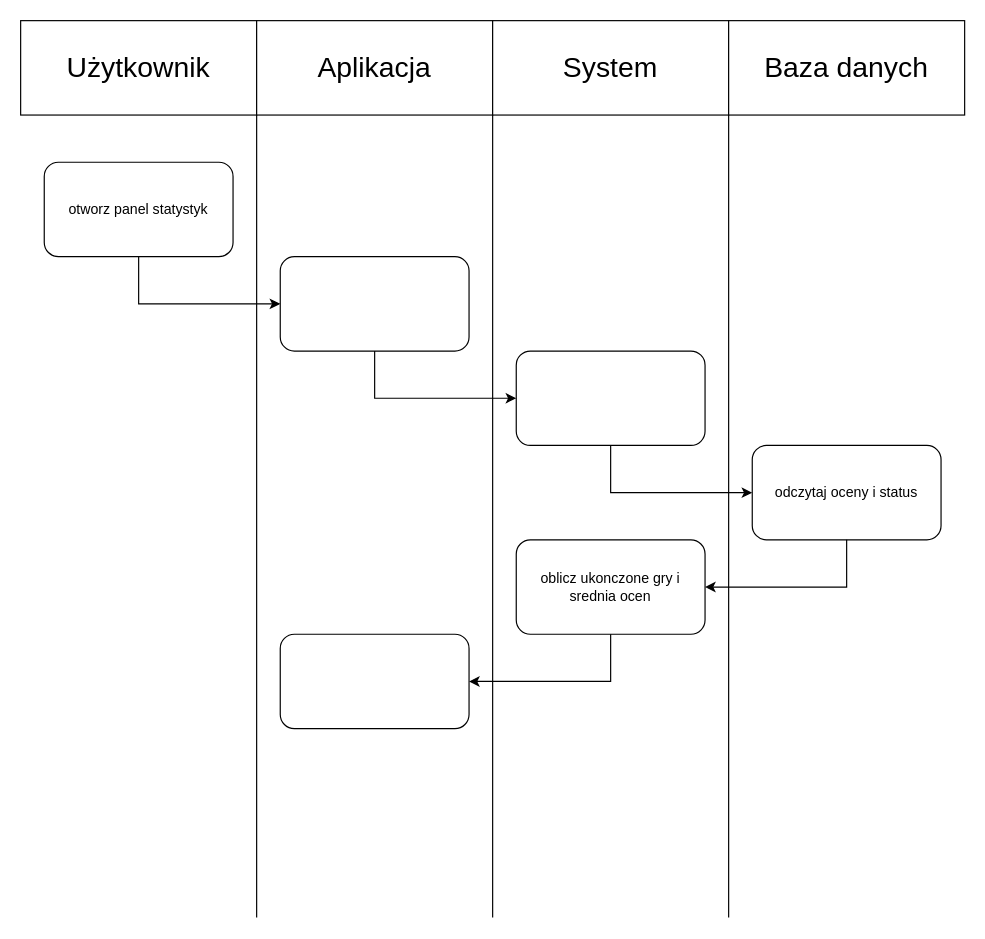
The diagram is 985 pixels wide and 939 high, and some of its shapes have lost their labels. The shapes that lost their labels are listed below. From the top down, each one's centre as x and y in pixels, then its label:
the point at 374,303: popros o dane do statystyk
the point at 610,397: pobierz dane gier
the point at 374,681: wyswietl statystyki
